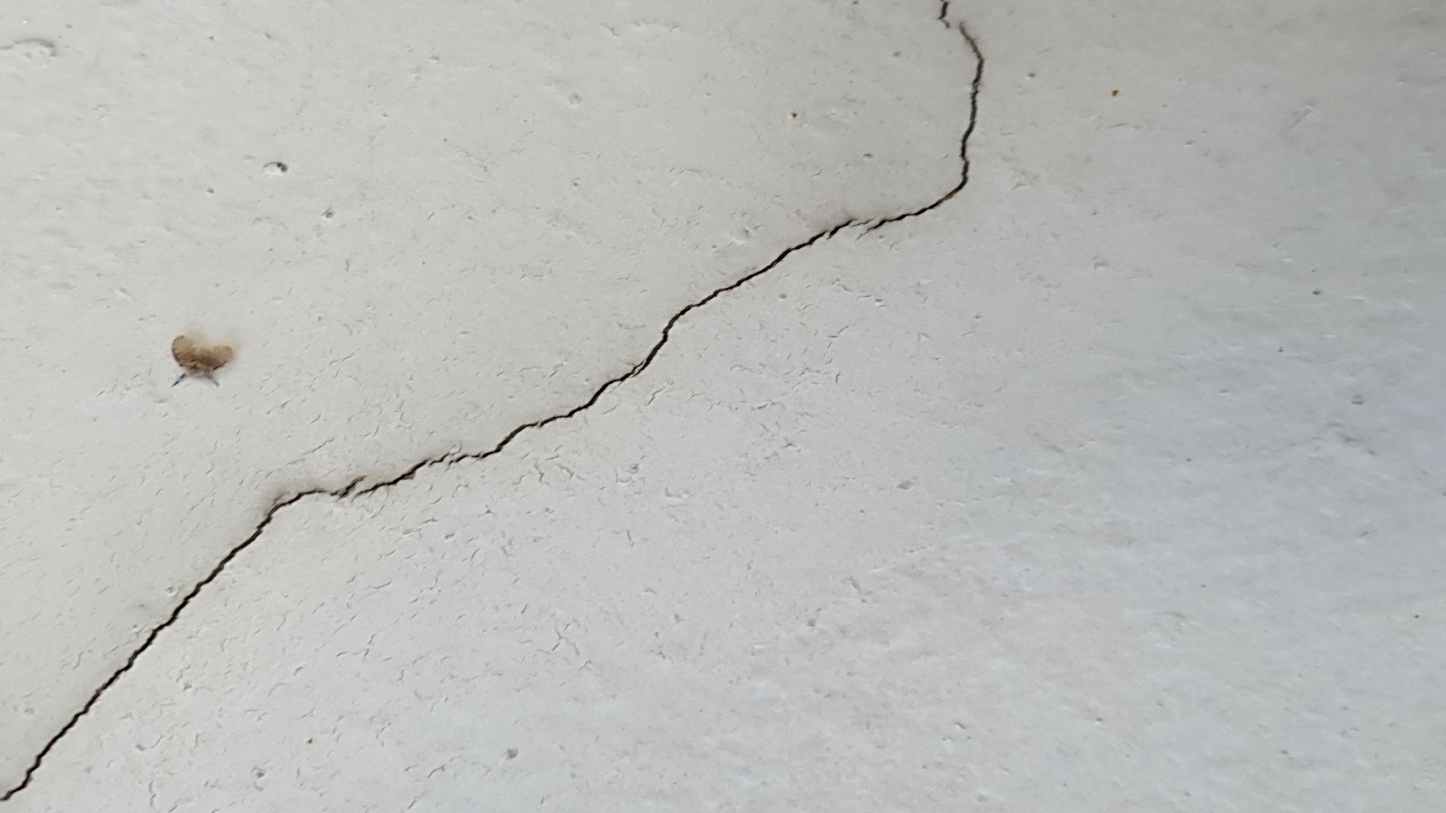crack: (0, 490, 320, 800), (635, 232, 827, 375), (865, 0, 983, 231), (449, 360, 643, 463), (358, 458, 427, 493), (827, 218, 855, 237), (340, 476, 363, 496), (429, 452, 449, 466)
